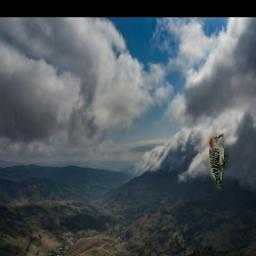Woodpecker: (210, 134, 230, 190)
